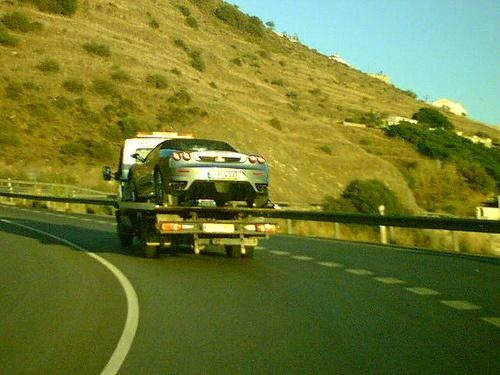car: (122, 135, 277, 207)
